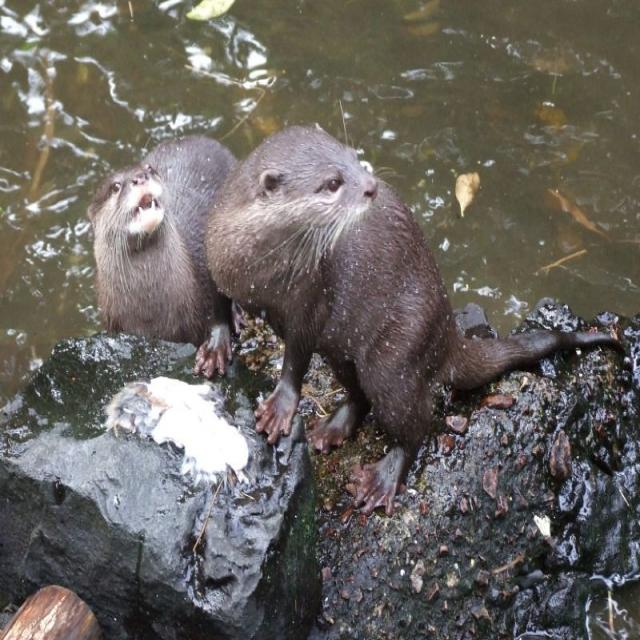otter: (206, 125, 615, 517), (91, 135, 259, 349)
